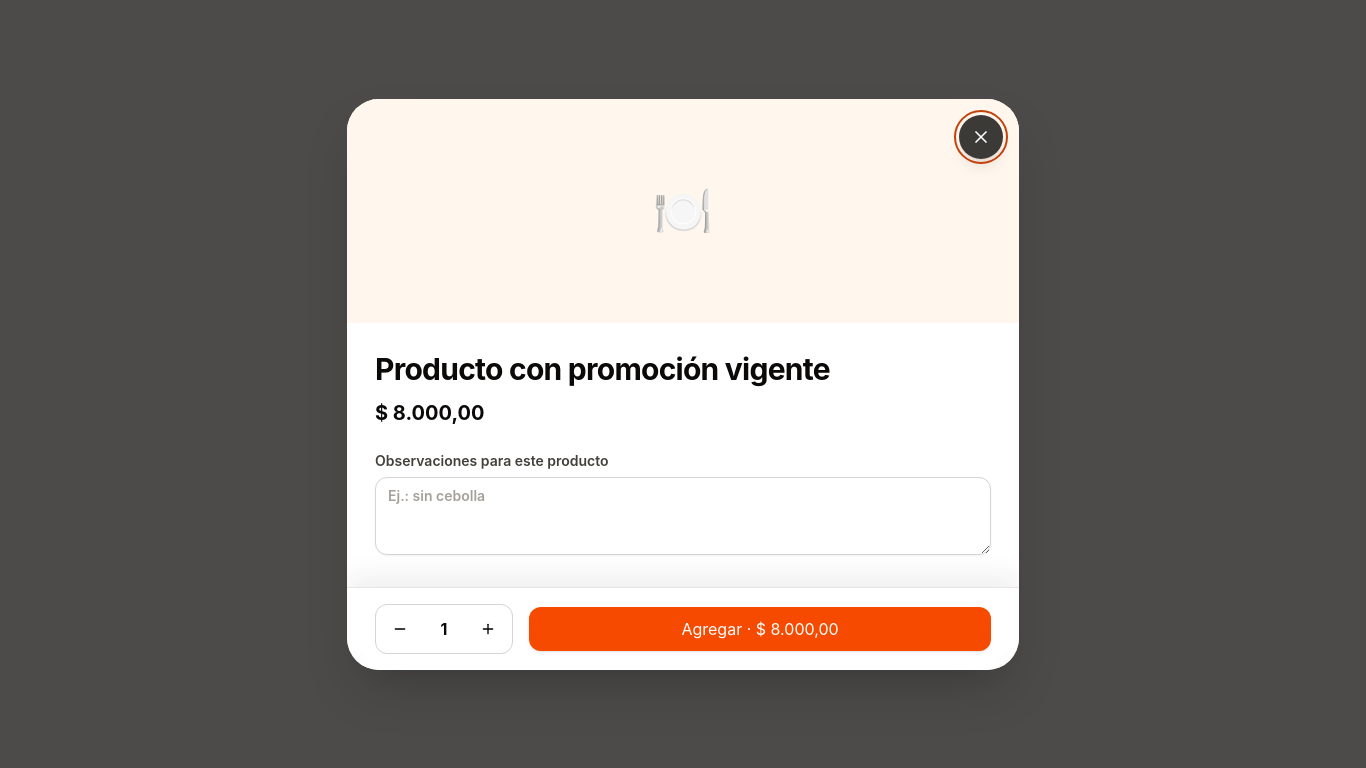
it: ProductDialog quantity promotions › does not advertise an obsolete bundle and keeps the cheaper active promotion
Click the button named "Sumar uno" at (488, 628), box [464,604,512,652]
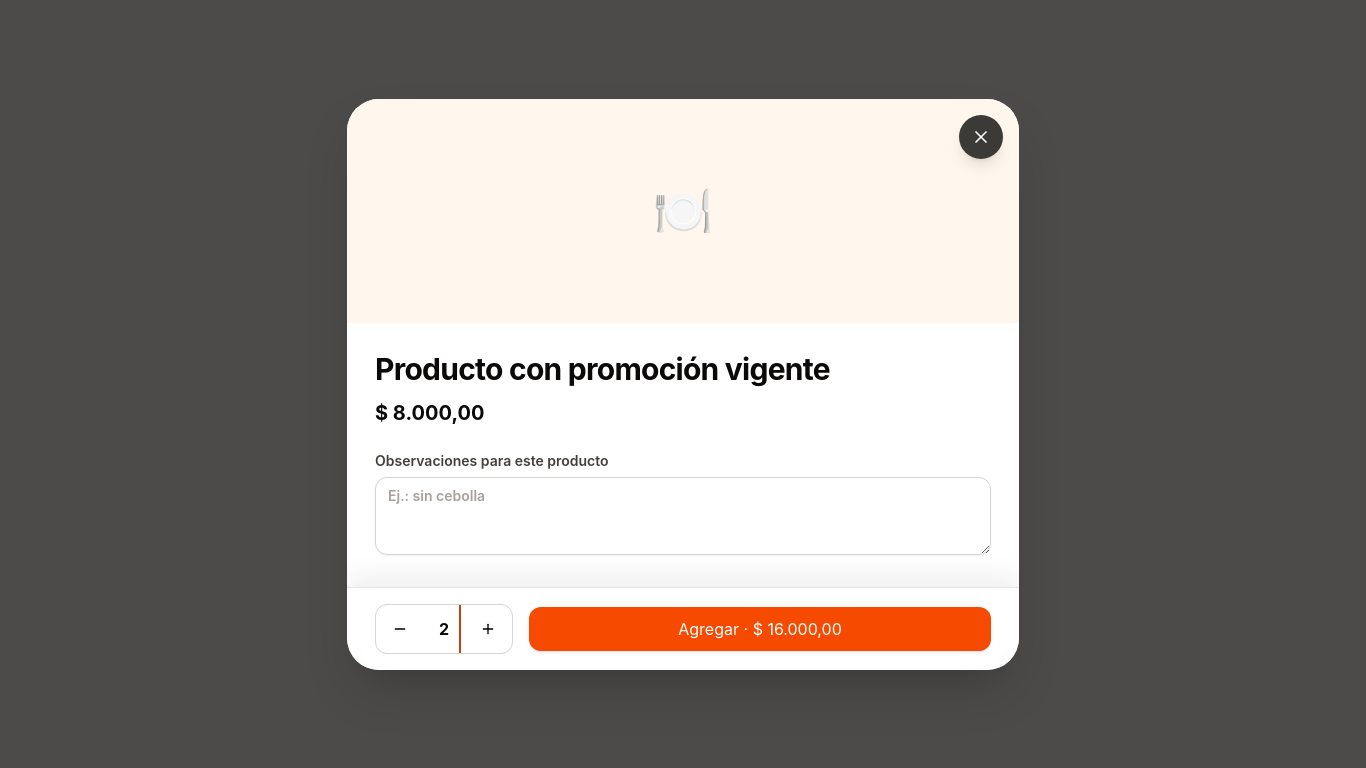
Check: the button "Agregar · $ 16.000,00" is shown, box [529,606,991,650]
